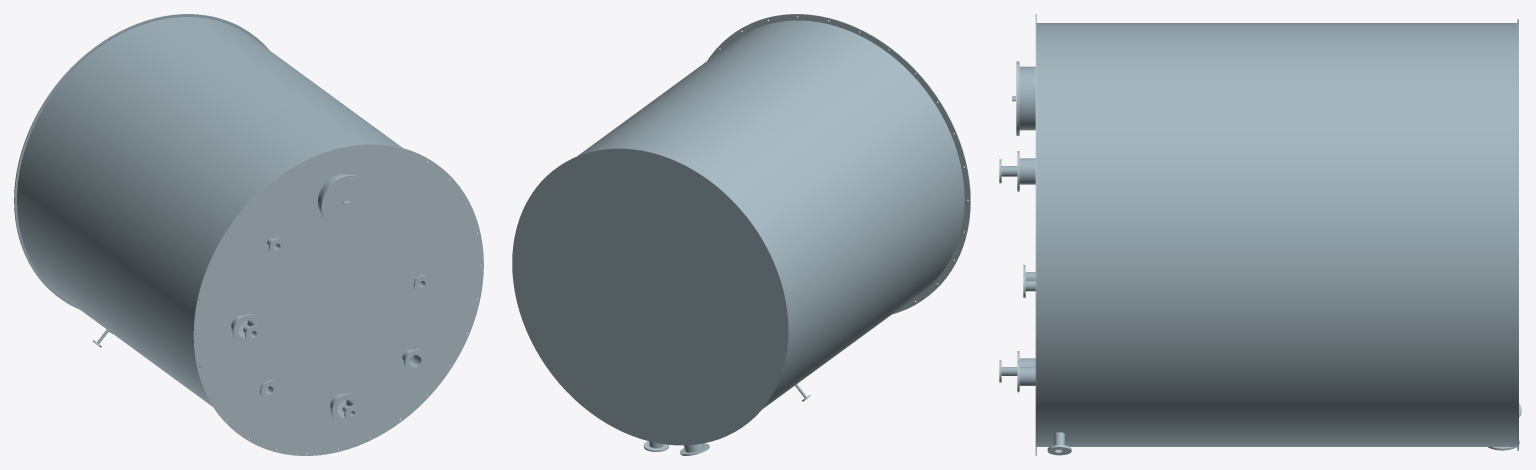
3 renders of one model, left to right at view 1: azimuth 30°, elevation 25°; view 2: azimuth 150°, elevation 25°; view 3: azimuth 270°, elevation 25°, orthographic. The views are drawn at different scales.
Visible parts, largest first — view 1: 本体_钢壳, 盖面_开孔盖板, 盖面_h盖, 本体_底板; view 2: 本体_钢壳, 本体_底板, 盖面_开孔盖板; view 3: 本体_钢壳, 接口_h接管, 盖面_开孔盖板, 本体_底板.
Boxes of the visible parts, x1=… form: 本体_钢壳: x1=17, y1=17, x2=413, y2=411; 盖面_开孔盖板: x1=193, y1=144, x2=483, y2=455; 盖面_h盖: x1=321, y1=175, x2=370, y2=228; 本体_底板: x1=14, y1=14, x2=269, y2=309; 本体_钢壳: x1=578, y1=20, x2=964, y2=409; 本体_底板: x1=512, y1=148, x2=788, y2=445; 盖面_开孔盖板: x1=707, y1=14, x2=970, y2=314; 本体_钢壳: x1=1036, y1=23, x2=1517, y2=446; 接口_h接管: x1=1019, y1=66, x2=1035, y2=130; 盖面_开孔盖板: x1=1035, y1=14, x2=1036, y2=455; 本体_底板: x1=1517, y1=19, x2=1518, y2=450.
Size of the model in its own units: 3.67 by 3.75 by 4.33.
